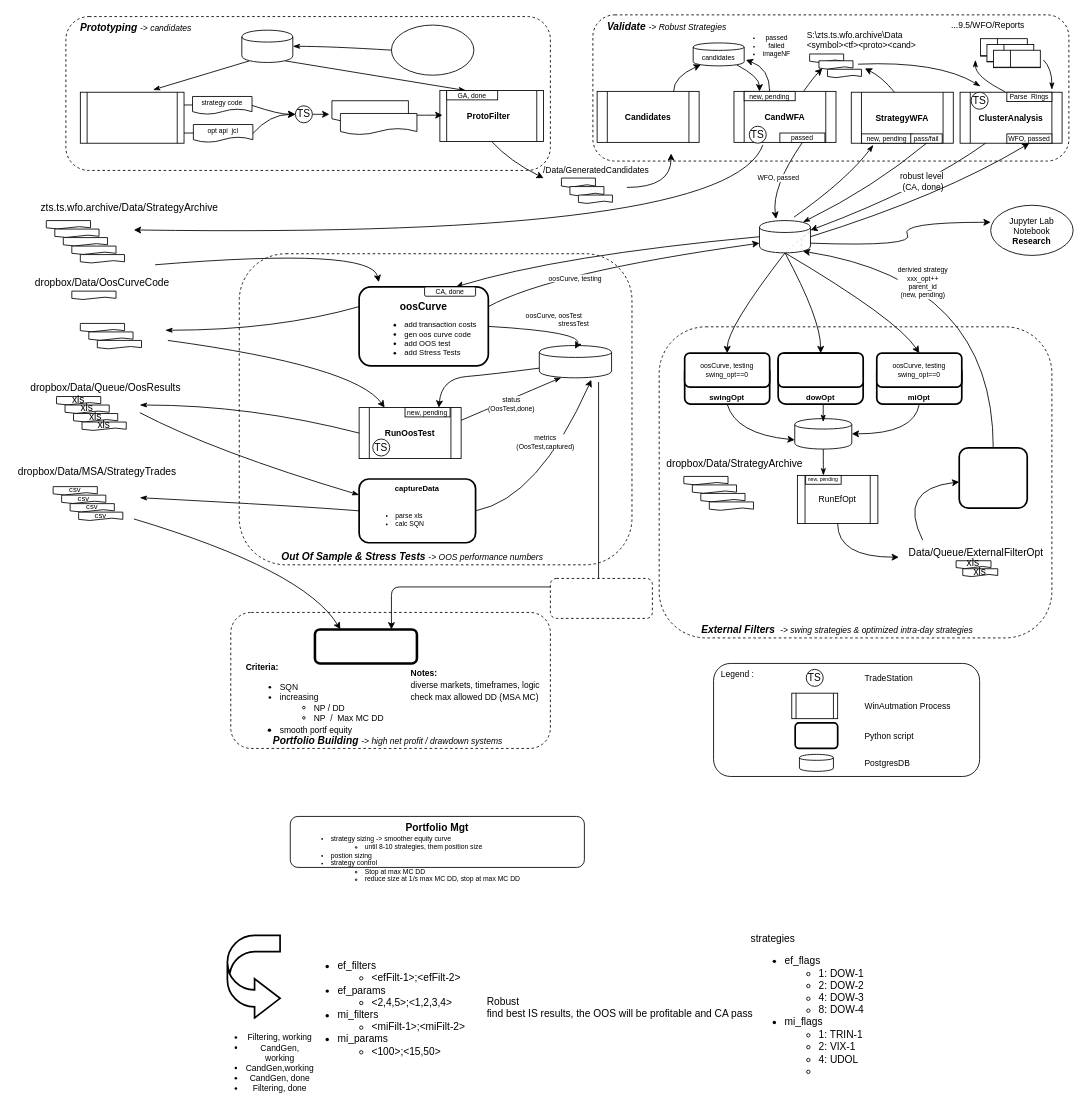
Image size: 1088x1117. Some labels were removed from this diagram. The shapes that lost their labels are listed below. From the top down, each one's centre as x and y in pixels, then its label:
the point at 267,45: proto_params
the point at 432,49: Jupyter Lab Notebook
the point at 131,117: codeGenPrototyping
the point at 369,111: S:\zts.dp\InSample
the point at 378,124: S:\zts.dp\OutOfSample
the point at 784,236: strategies
the point at 575,361: oos_tests
the point at 820,370: oosCurve, testing swing_opt==0 equity index robust_level
the point at 823,433: ef_opt
the point at 993,478: parseEfRpt
the point at 601,598: DPS -
the point at 365,646: MSA
